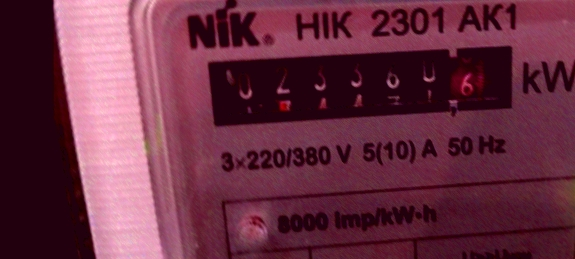0: (233, 67, 255, 101), (416, 53, 438, 84)
2: (272, 62, 292, 95)
3: (346, 55, 365, 88), (308, 61, 327, 92)
6: (381, 57, 402, 90), (456, 66, 477, 99)
screen: (191, 36, 529, 131)
